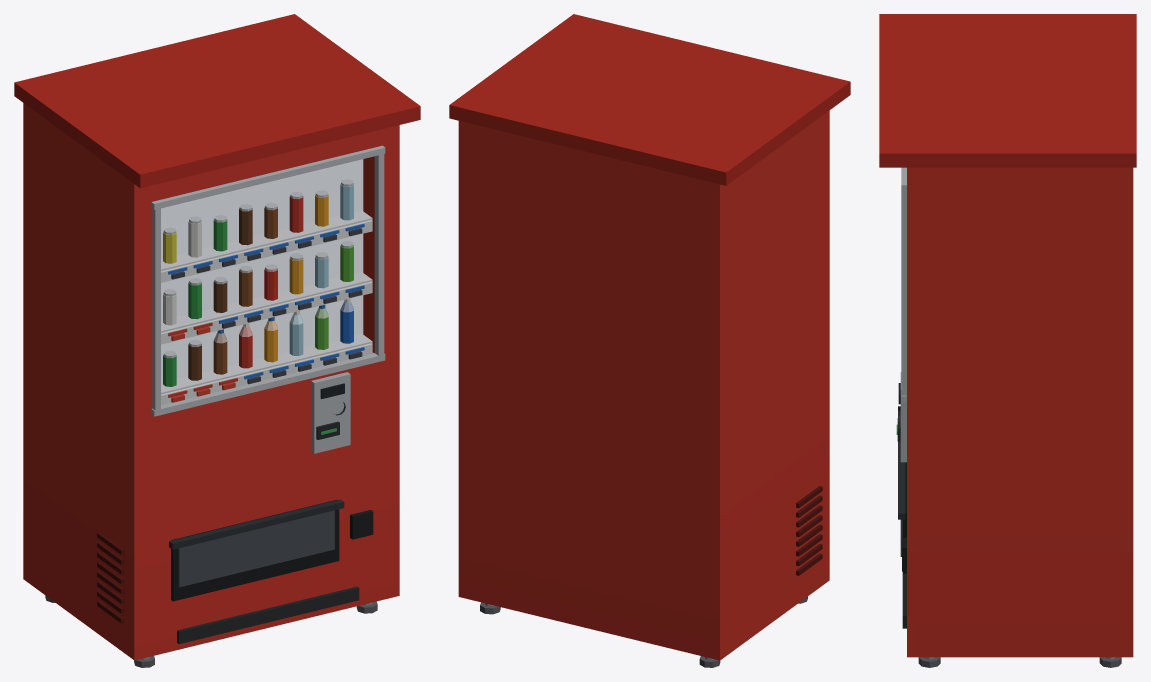
File: vending_red.glb
3 renders of one model, left to right at view 1: azimuth 30°, elevation 25°; view 2: azimuth 150°, elevation 25°; view 3: azimuth 270°, elevation 25°, orthographic. The views are drawn at different scales.
Visible parts, largest first — view 1: vending_red; view 2: vending_red; view 3: vending_red.
Part boxes in pixels (<box>): vending_red: <box>14,14,420,667</box>; vending_red: <box>449,14,850,667</box>; vending_red: <box>879,14,1136,667</box>.
Size of the model in its own units: 1.08 by 1.89 by 0.84.
